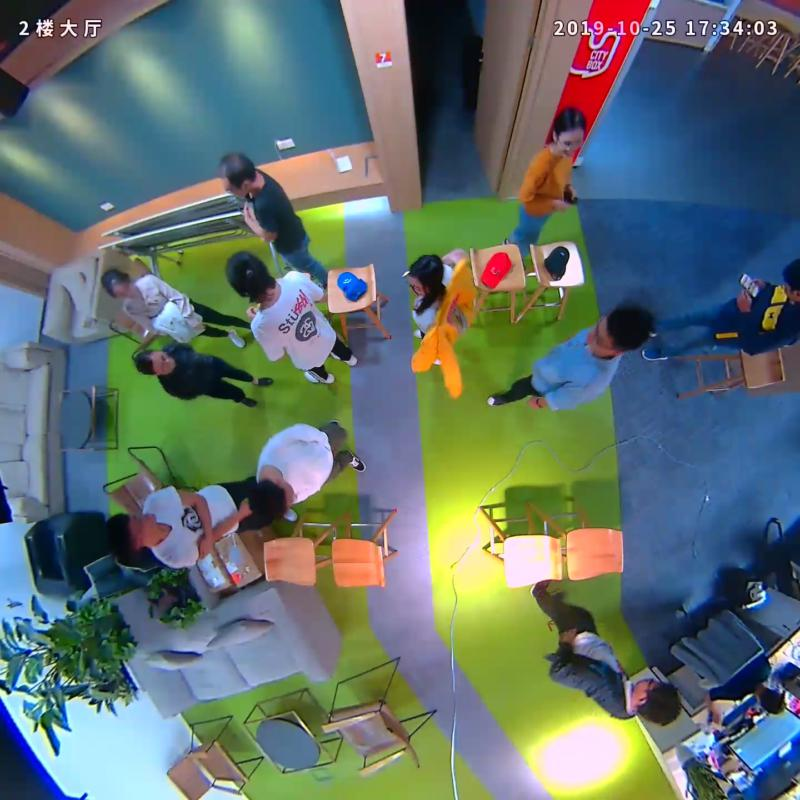head: (587, 304, 653, 356), (632, 677, 680, 726), (104, 512, 158, 553), (225, 250, 268, 297), (550, 105, 586, 157), (250, 477, 296, 517), (219, 152, 256, 198), (406, 254, 445, 295), (133, 348, 174, 377), (99, 268, 135, 299)
